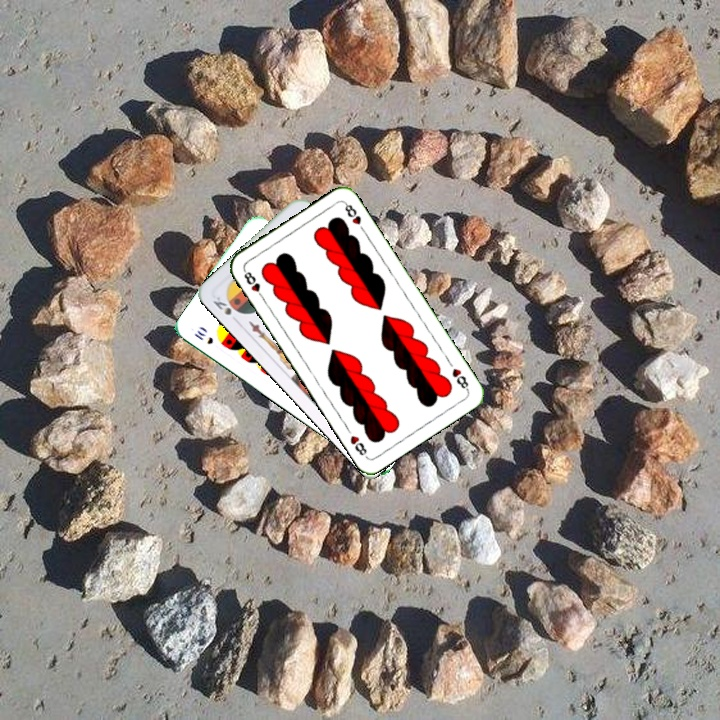H8: (239, 266, 267, 302), (448, 364, 471, 393)
S10: (190, 326, 216, 347)
SK: (209, 292, 241, 326)
